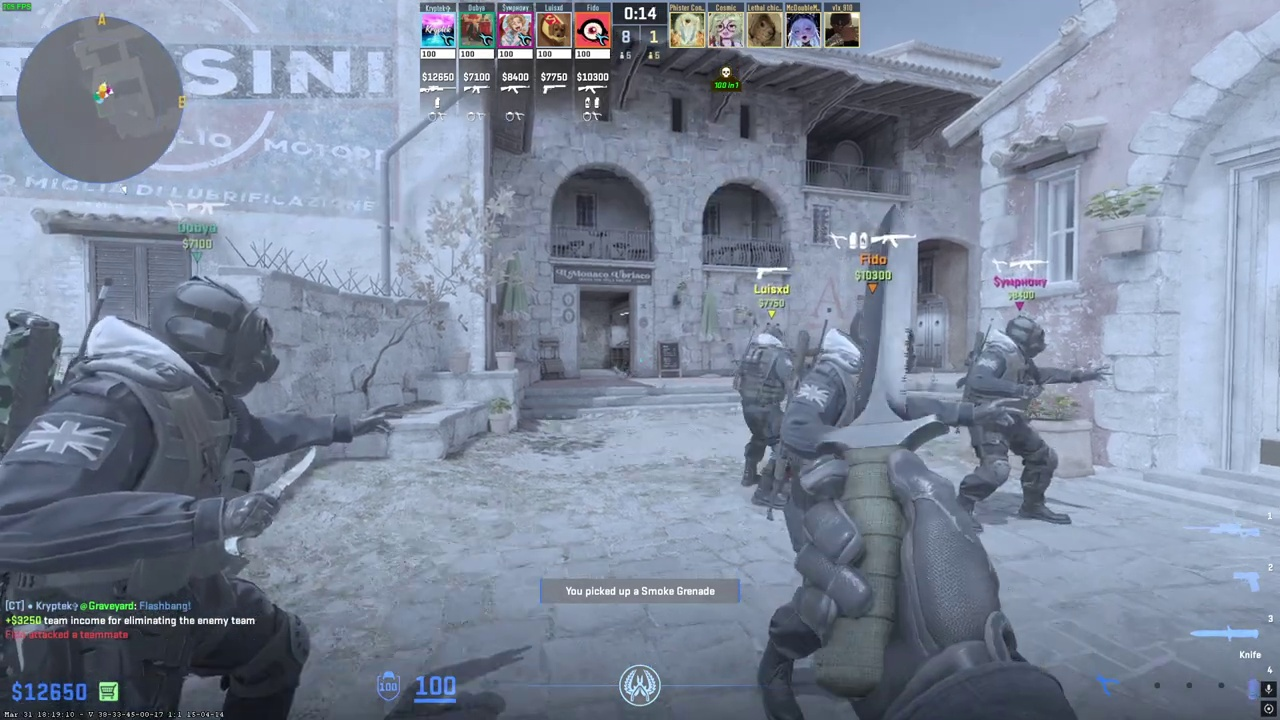CT: (0, 275, 323, 720), (956, 315, 1075, 526), (793, 317, 914, 481), (733, 322, 796, 492)
